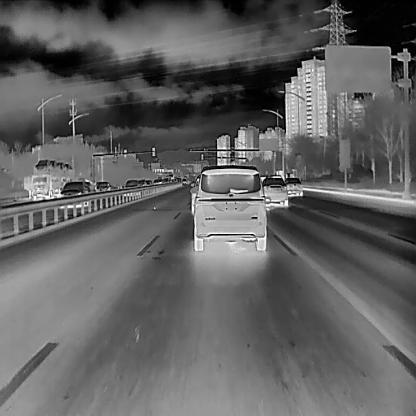car: (191, 162, 267, 252), (26, 158, 73, 201), (260, 173, 288, 209), (61, 180, 90, 210), (121, 178, 154, 195), (285, 176, 303, 197), (94, 180, 113, 197)
